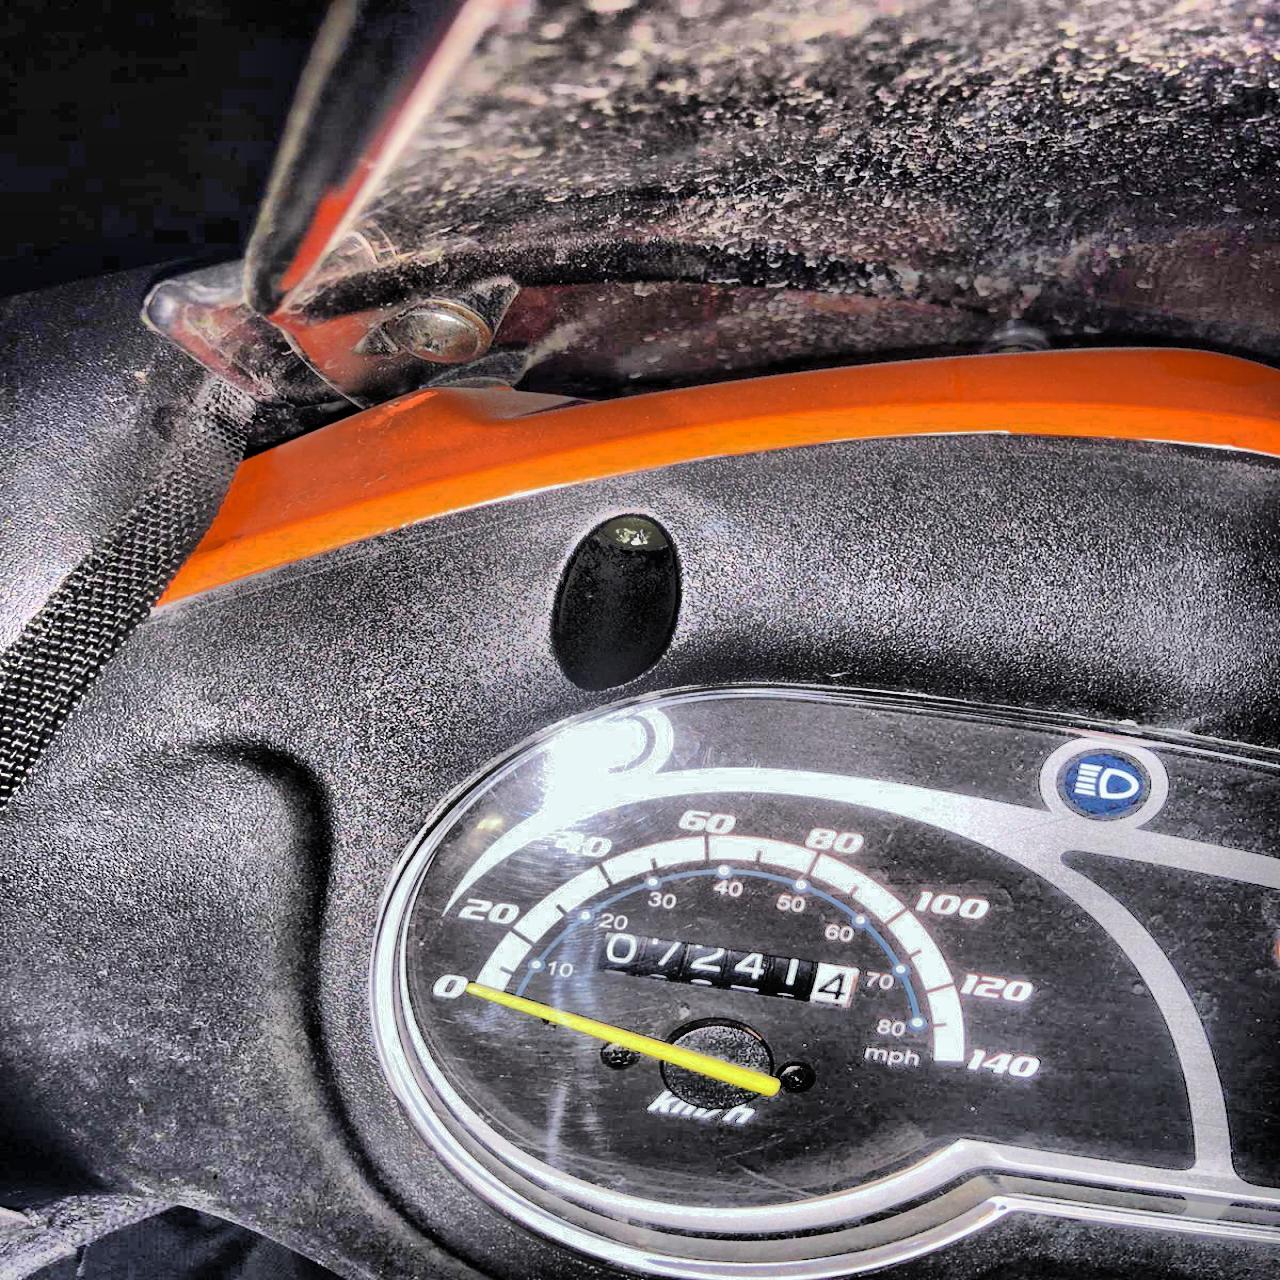0: (605, 931, 639, 964), (839, 925, 853, 944)
1: (783, 955, 801, 987)
2: (686, 941, 724, 973)
4: (731, 946, 768, 980), (815, 969, 851, 1000)
6: (824, 924, 839, 939)
7: (649, 935, 682, 965)
odometer: (595, 928, 862, 1009)
